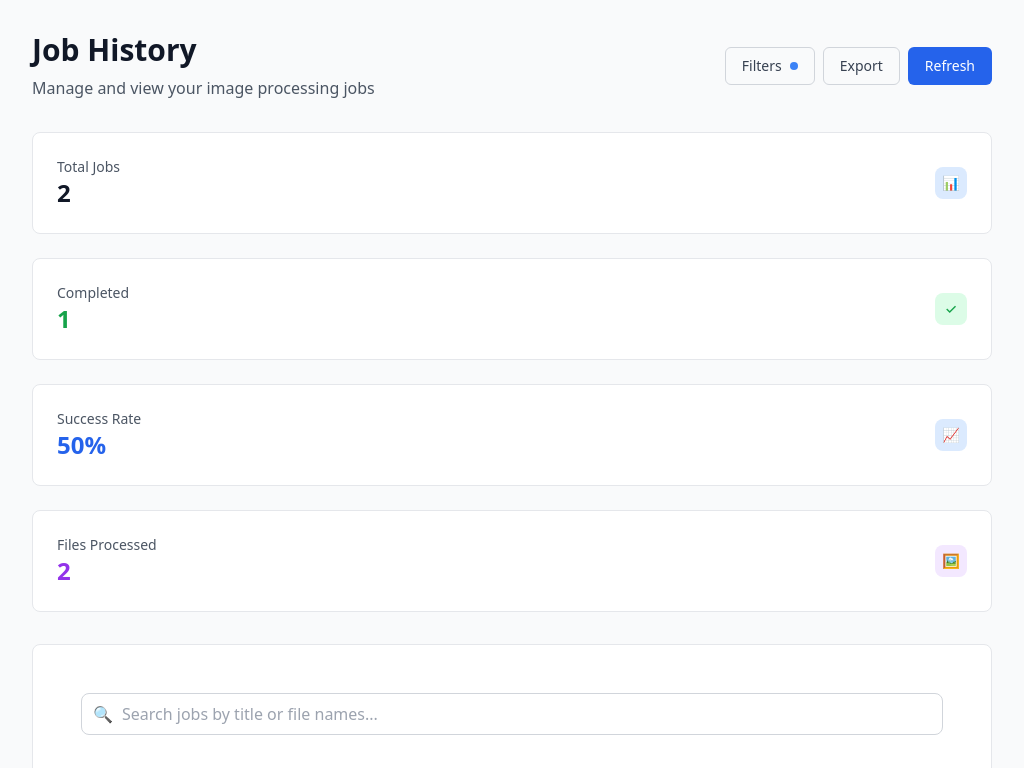
Test: JobHistory Component › Filter Functionality › should show clear filters button when filters are active
This screenshot has width=1024, height=768.
Click the button "Filters". click: (770, 66)
box: [725,47,815,85]
(page scrolled)
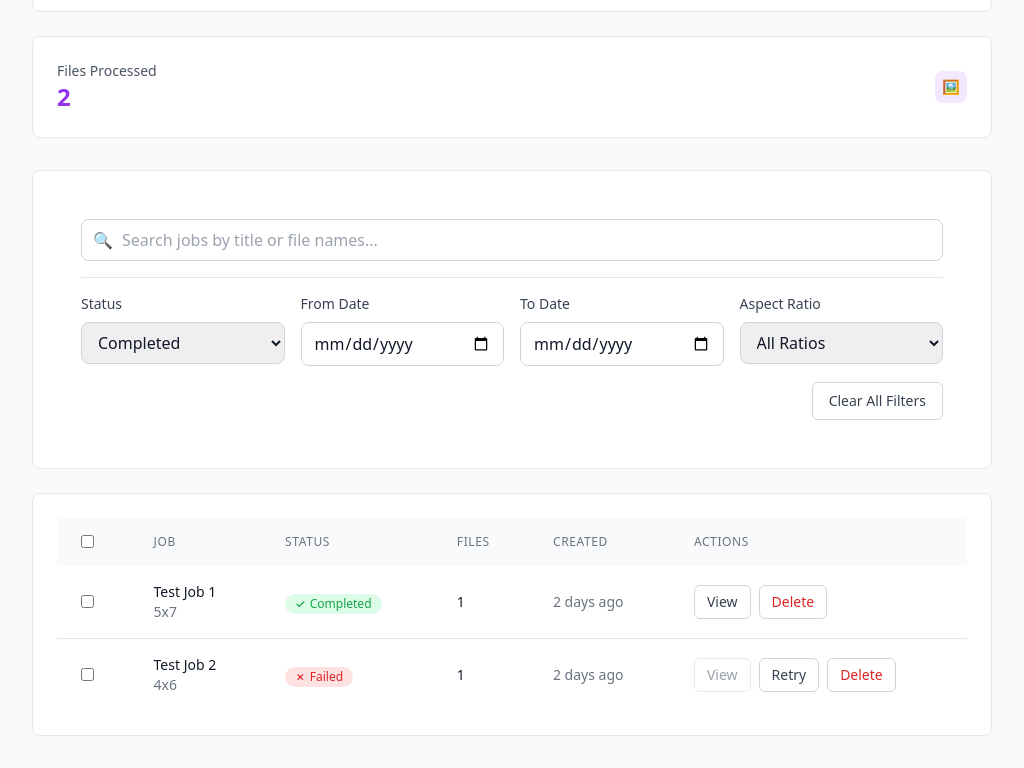
Expected: the button "Clear All Filters" is shown, [812,382,943,420]
